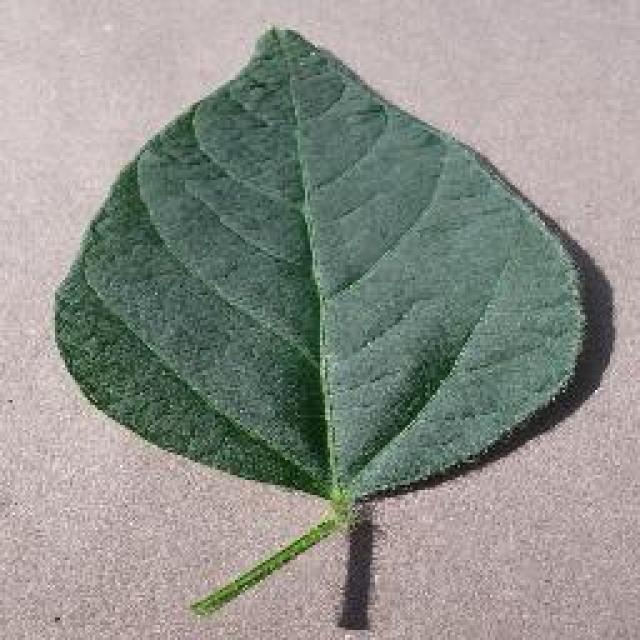Soy_healthy: (66, 71, 594, 488)
